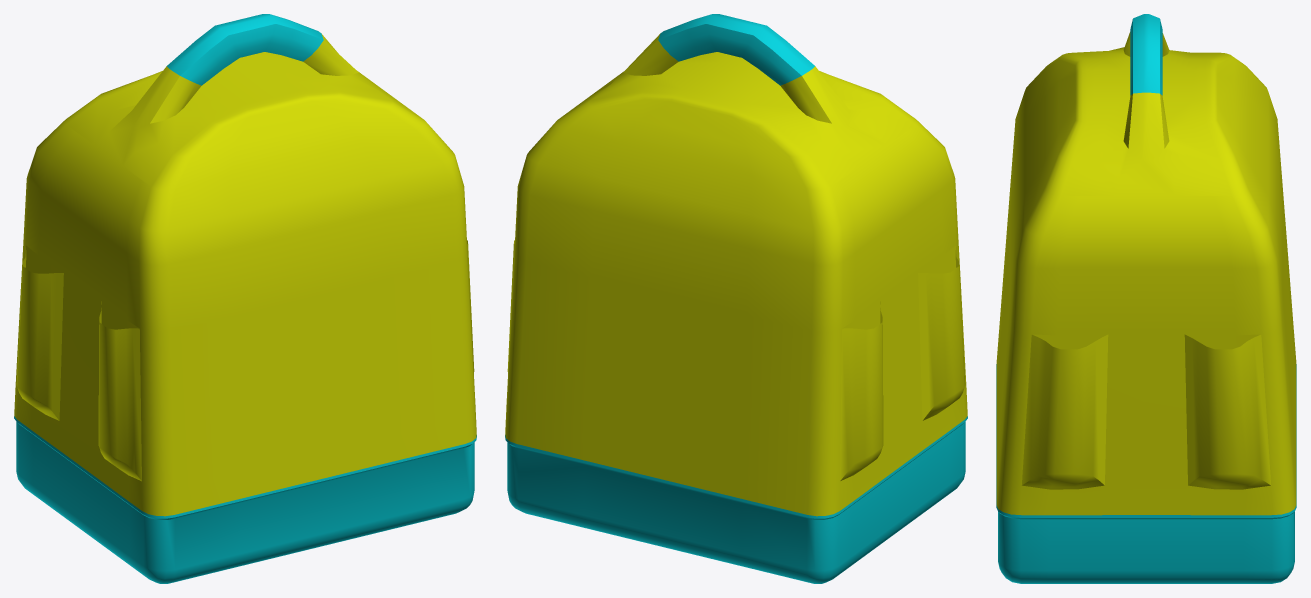
File: Toolkit.fbx
The picture shows the model from 3 angles, left to right: view 1: azimuth 30°, elevation 25°; view 2: azimuth 150°, elevation 25°; view 3: azimuth 270°, elevation 25°; orthographic projection.
Visible parts, largest first — view 1: Cube; view 2: Cube; view 3: Cube.
Boxes of the visible parts, x1=… form: Cube: x1=14, y1=14, x2=476, y2=583; Cube: x1=505, y1=14, x2=967, y2=583; Cube: x1=996, y1=14, x2=1296, y2=583.
Bounding box in the file's own units: 23.52 × 29.6 × 16.62.
